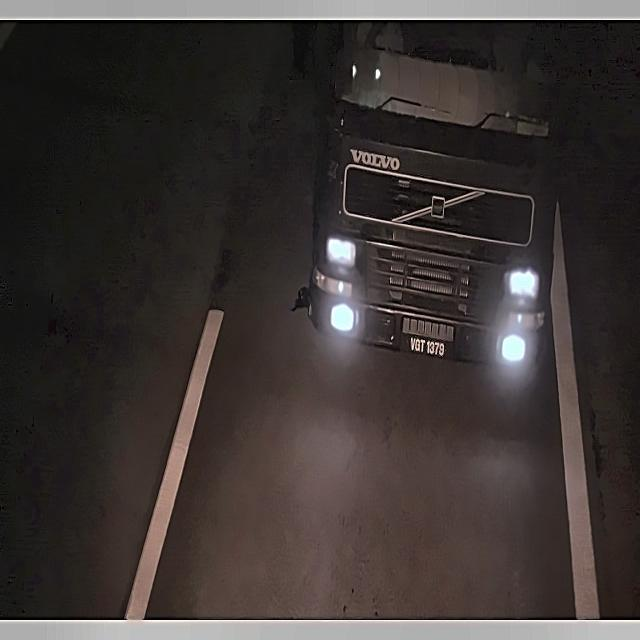car: (400, 333, 452, 364)
